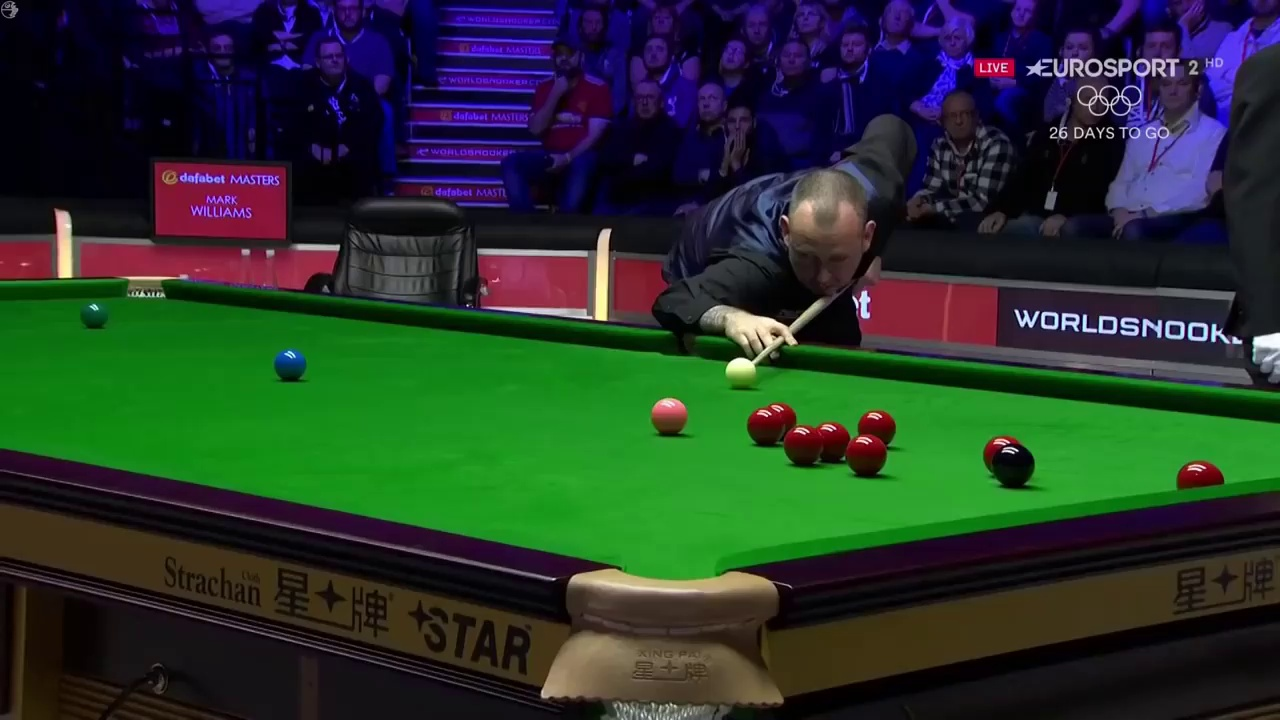black: (991, 446, 1035, 485)
blue: (274, 350, 307, 379)
green: (82, 299, 105, 327)
pink: (647, 397, 688, 433)
red: (844, 439, 885, 477), (785, 425, 820, 466), (856, 408, 898, 436), (748, 411, 782, 445)
